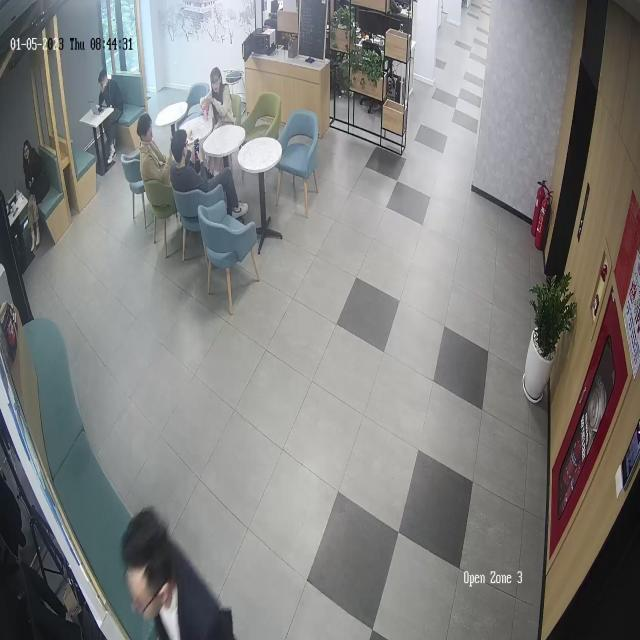person: (120, 504, 240, 640), (171, 124, 249, 220), (17, 138, 50, 259), (97, 67, 126, 165), (137, 113, 174, 186), (200, 67, 234, 124)
